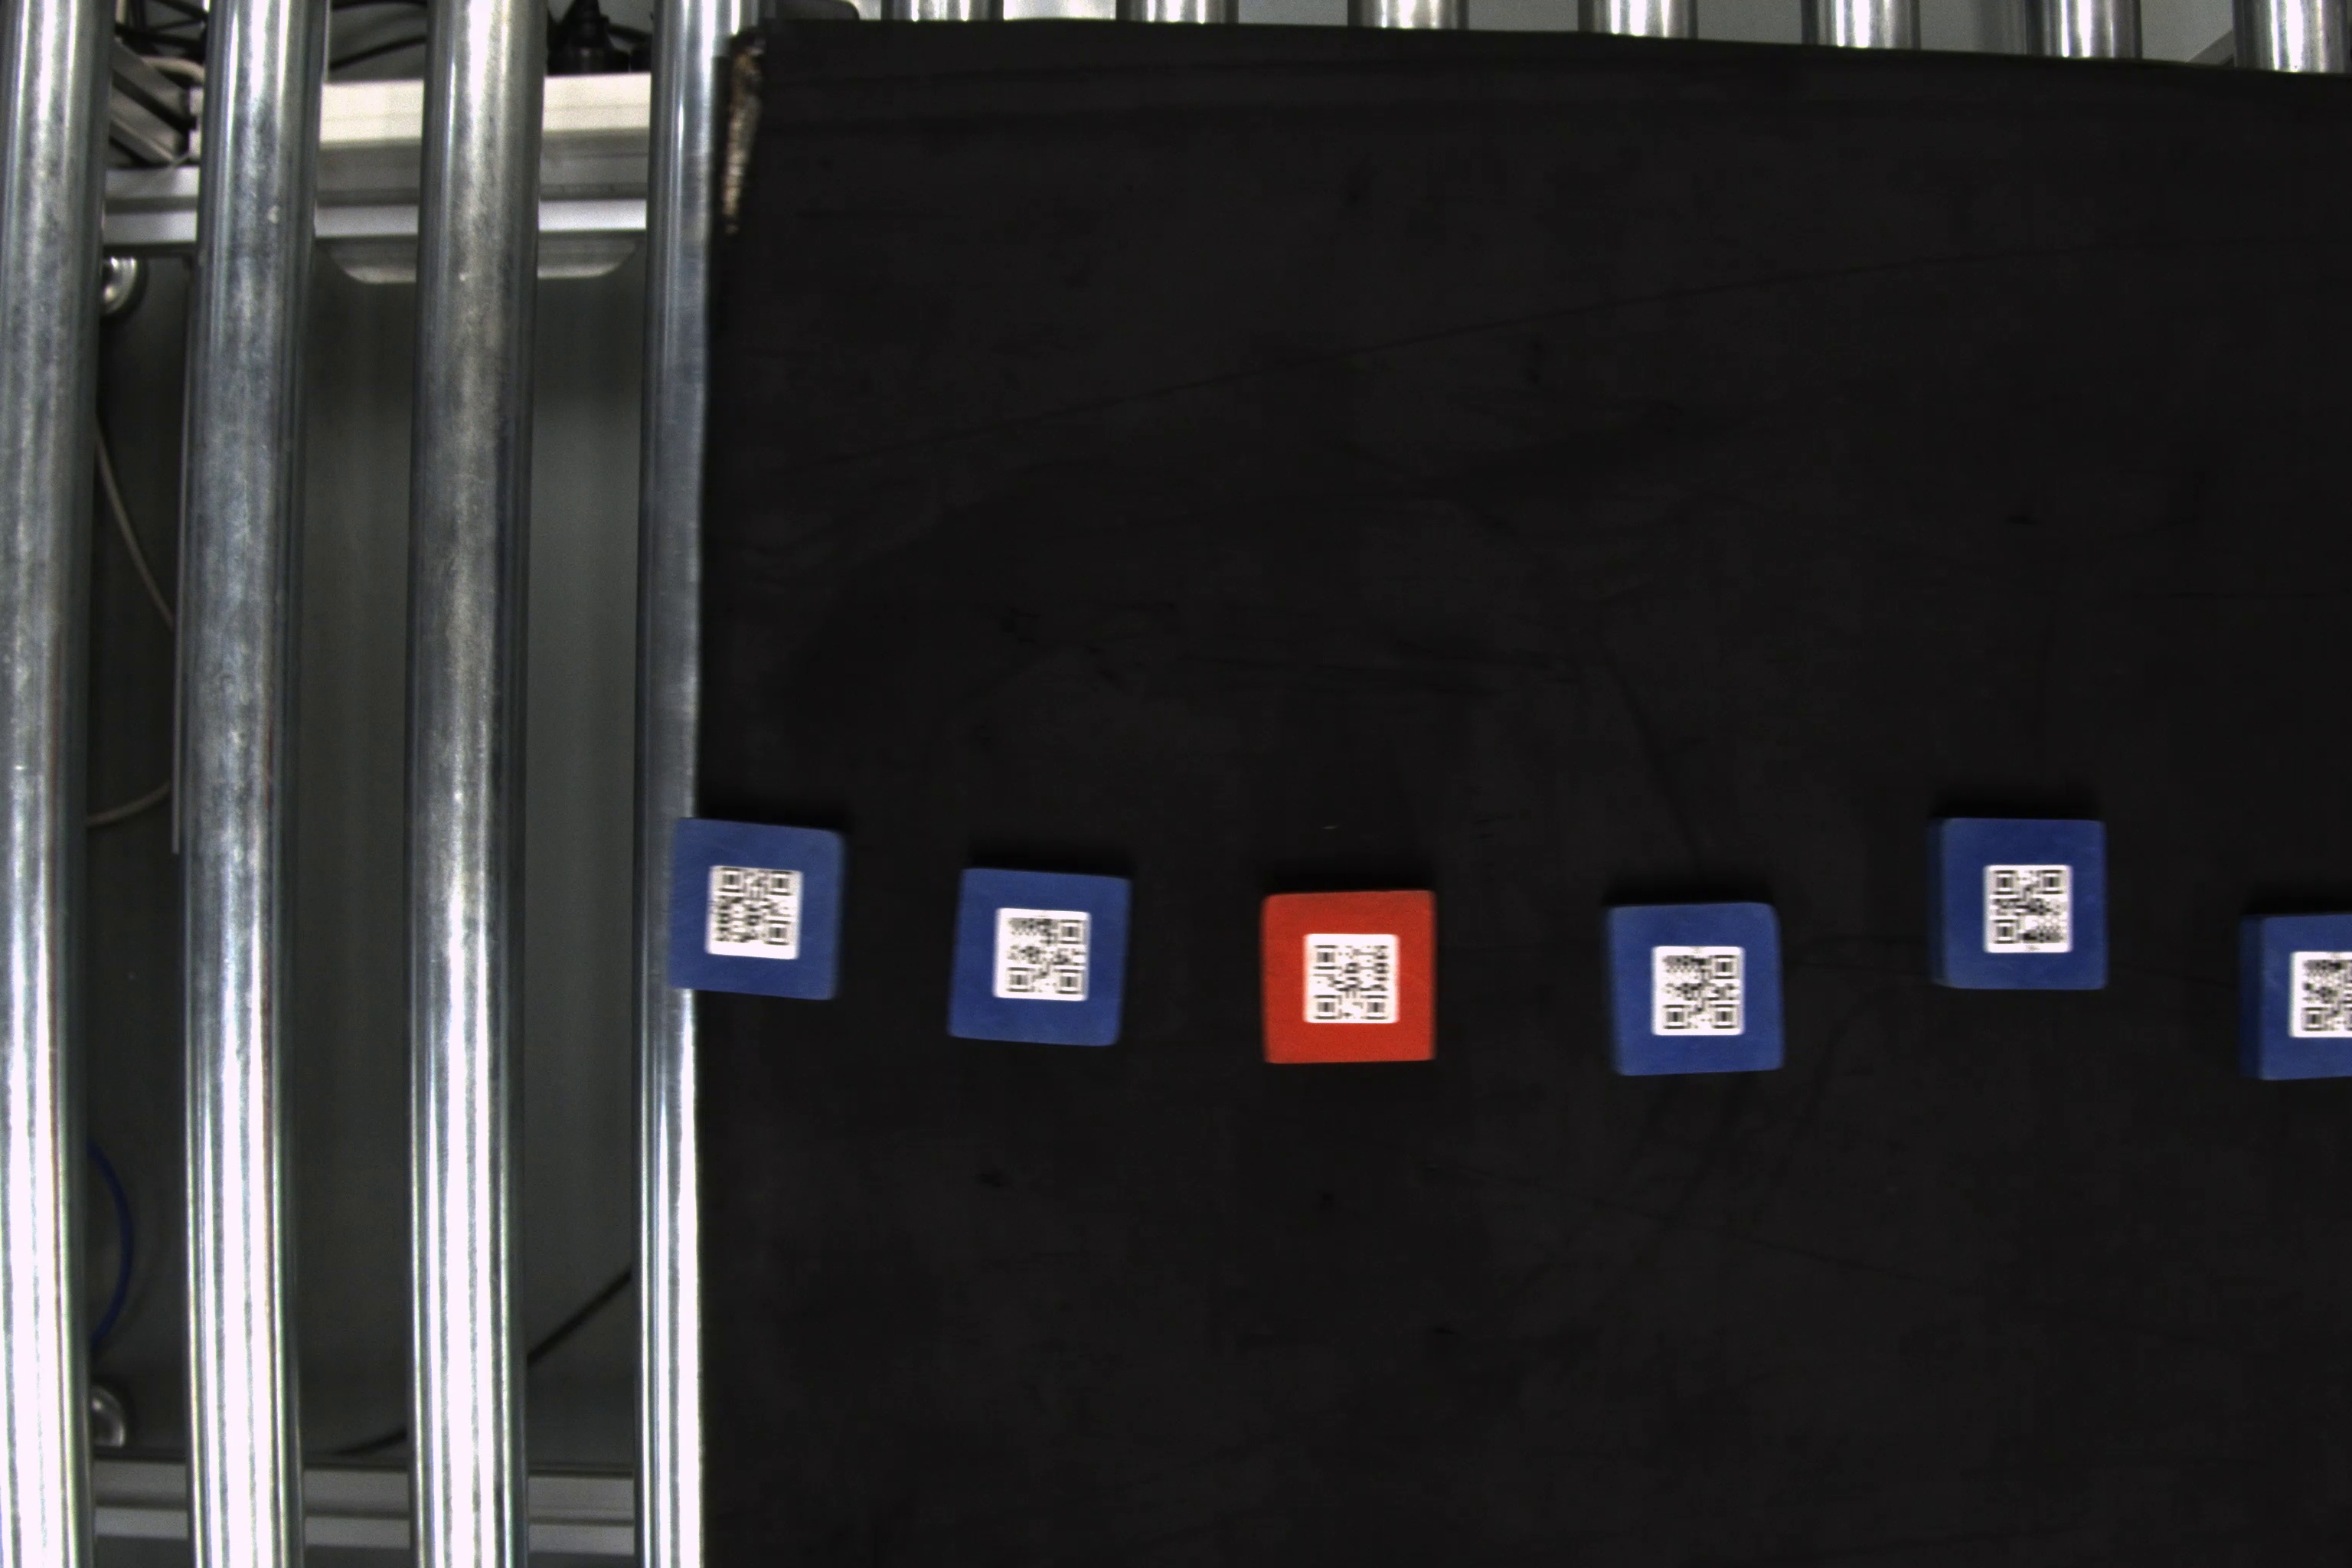wood: (665, 807, 852, 1004), (943, 861, 1137, 1050), (1925, 808, 2119, 996), (1251, 889, 1444, 1066), (1603, 903, 1788, 1078), (2235, 906, 2345, 1088)
